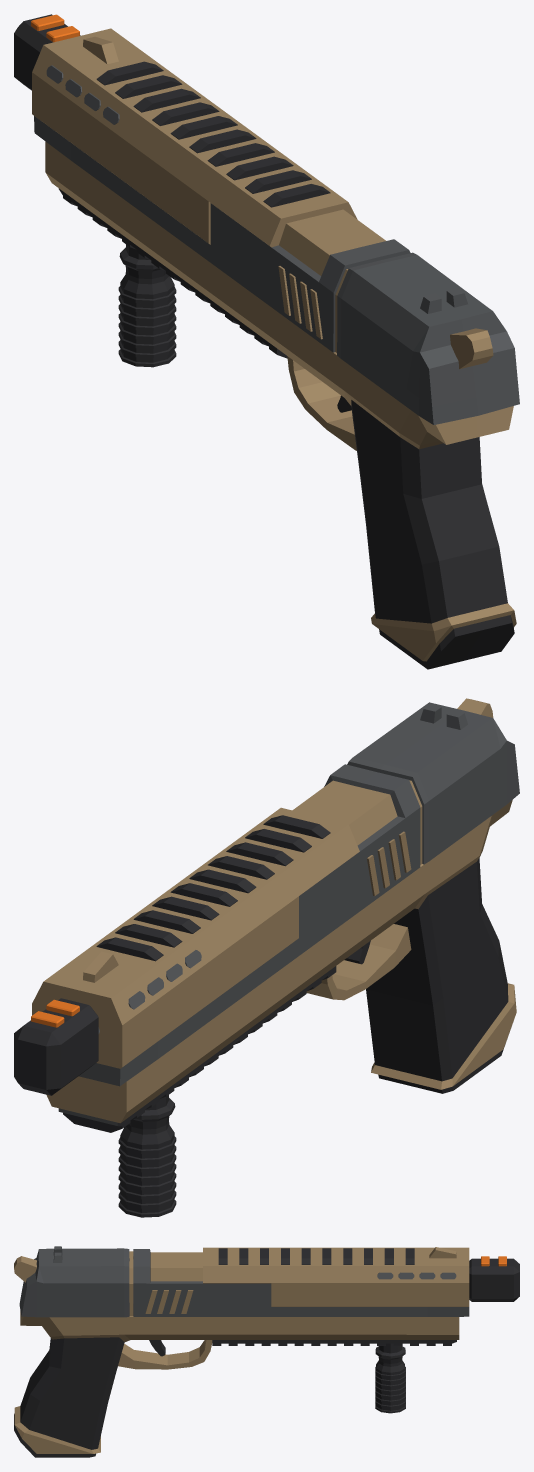
File: machine_pistol.glb
The picture shows the model from 3 angles, top to bottom: view 1: azimuth 30°, elevation 25°; view 2: azimuth 150°, elevation 25°; view 3: azimuth 270°, elevation 25°; orthographic projection. The views are drawn at different scales.
Parts seen in each view (by area): view 1: machine_pistol; view 2: machine_pistol; view 3: machine_pistol.
Part boxes in pixels (x1,y1,x2,y2): machine_pistol: (14,14,519,669); machine_pistol: (14,698,519,1217); machine_pistol: (14,1246,519,1457).
Bounding box in the file's own units: 0.0462 × 0.1737 × 0.4.
